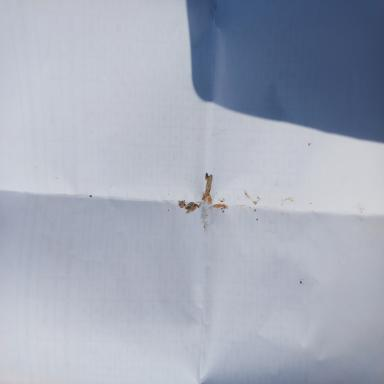pbw: (185, 201, 198, 214), (205, 174, 213, 194)
